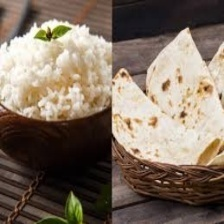rice: (0, 14, 111, 126)
